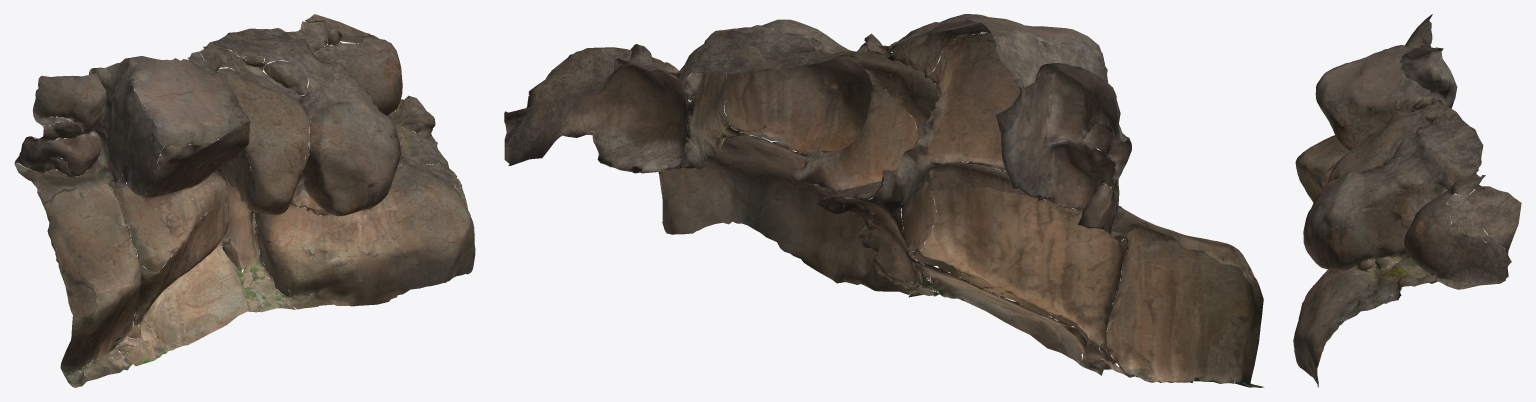
File: namaqualand_cliff_01.glb
The picture shows the model from 3 angles, left to right: view 1: azimuth 30°, elevation 25°; view 2: azimuth 150°, elevation 25°; view 3: azimuth 270°, elevation 25°; orthographic projection. The views are drawn at different scales.
Visible parts, largest first — view 1: drone_rock_01; view 2: drone_rock_01; view 3: drone_rock_01.
Part boxes in pixels (<box>): drone_rock_01: <box>14,14,475,387</box>; drone_rock_01: <box>504,14,1264,387</box>; drone_rock_01: <box>1293,14,1521,387</box>.
Bounding box in the file's own units: 8.28 × 4.96 × 4.39.
1 material, 1 textured.
